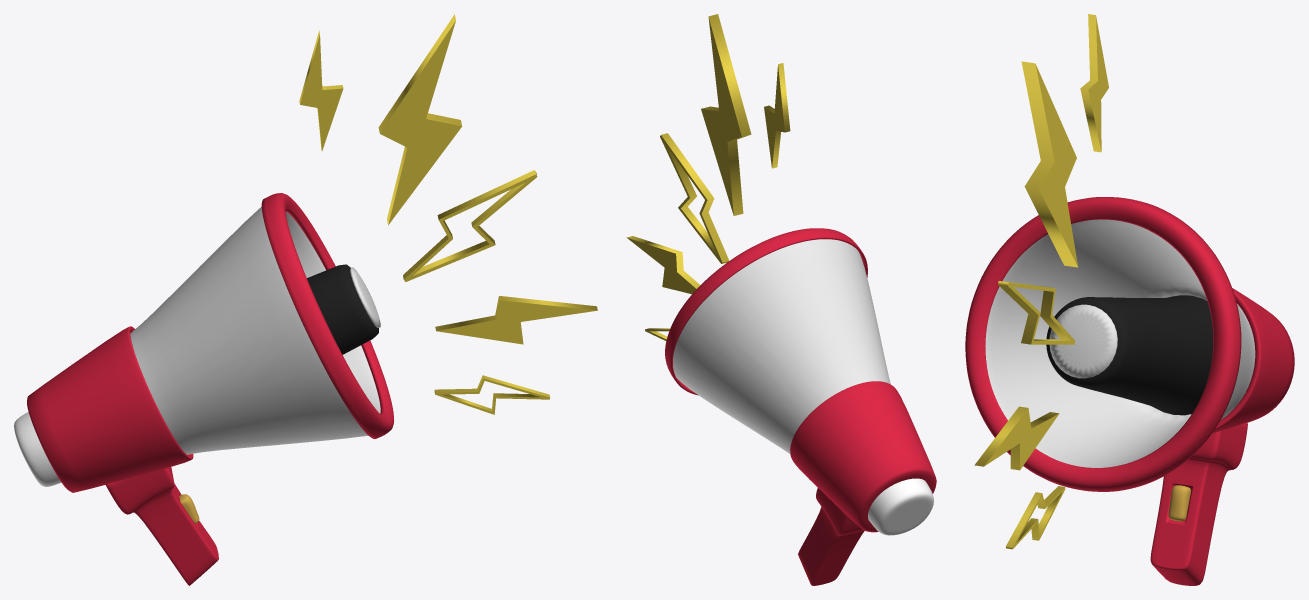
File: megaphone-transformed.glb
The picture shows the model from 3 angles, left to right: view 1: azimuth 30°, elevation 25°; view 2: azimuth 150°, elevation 25°; view 3: azimuth 270°, elevation 25°; orthographic projection. The views are drawn at different scales.
Parts seen in each view (by area): view 1: Cylinder.005_8, Cylinder.007_10, Cylinder.008_11, Curve.005_3, Cube.005_1, Cylinder.006_9, Curve.007_5, Curve.006_4, Curve.008_6, Cube.004_0, Curve.009_7; view 2: Cylinder.005_8, Cylinder.007_10, Curve.005_3, Cube.005_1, Cylinder.008_11, Cube.004_0, Curve.006_4, Curve.007_5, Curve.008_6; view 3: Cylinder.005_8, Cylinder.008_11, Cylinder.006_9, Cube.005_1, Curve.005_3, Cylinder.007_10, Cylinder.009_12, Curve.007_5, Curve.008_6, Curve.006_4, Curve.009_7, Cube.006_2.
Part boxes in pixels (bbox=[...]): Cylinder.005_8: bbox=[130, 207, 380, 454]; Cylinder.007_10: bbox=[27, 326, 193, 492]; Cylinder.008_11: bbox=[261, 193, 394, 438]; Curve.005_3: bbox=[378, 14, 462, 225]; Cube.005_1: bbox=[106, 467, 218, 585]; Cylinder.006_9: bbox=[307, 264, 378, 354]; Curve.007_5: bbox=[435, 296, 597, 344]; Curve.006_4: bbox=[403, 170, 537, 281]; Curve.008_6: bbox=[299, 30, 343, 150]; Cube.004_0: bbox=[14, 412, 61, 486]; Curve.009_7: bbox=[434, 375, 550, 414]; Cylinder.005_8: bbox=[673, 239, 890, 453]; Cylinder.007_10: bbox=[790, 381, 936, 532]; Curve.005_3: bbox=[701, 14, 751, 215]; Cube.005_1: bbox=[798, 488, 864, 585]; Cylinder.008_11: bbox=[665, 228, 867, 395]; Cube.004_0: bbox=[868, 478, 933, 535]; Curve.006_4: bbox=[660, 133, 729, 263]; Curve.007_5: bbox=[626, 236, 700, 294]; Curve.008_6: bbox=[764, 63, 790, 168]; Cylinder.005_8: bbox=[985, 219, 1255, 467]; Cylinder.008_11: bbox=[965, 197, 1241, 491]; Cylinder.006_9: bbox=[1046, 295, 1213, 415]; Cube.005_1: bbox=[1150, 422, 1247, 585]; Curve.005_3: bbox=[1021, 61, 1078, 267]; Cylinder.007_10: bbox=[1212, 288, 1294, 433]; Cylinder.009_12: bbox=[1049, 304, 1117, 378]; Curve.007_5: bbox=[974, 406, 1059, 470]; Curve.008_6: bbox=[1080, 14, 1108, 152]; Curve.006_4: bbox=[998, 281, 1075, 344]; Curve.009_7: bbox=[1006, 486, 1065, 549]; Cube.006_2: bbox=[1168, 485, 1190, 521].
Size of the model in its own units: 2.4 by 2.79 by 1.32.
